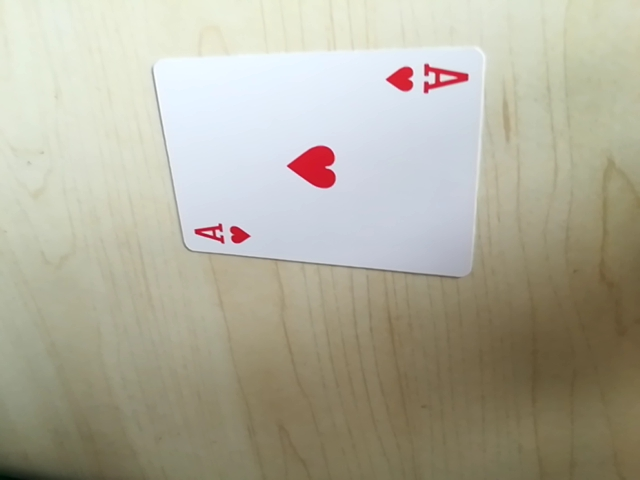hx a: (384, 55, 470, 102), (187, 217, 256, 252)
